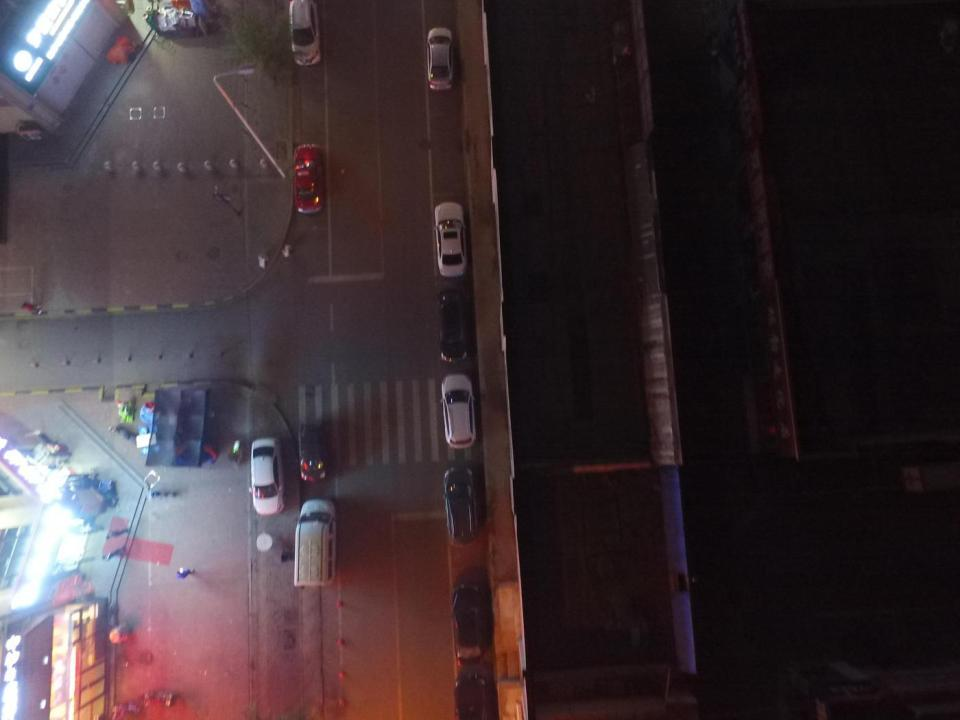car: (250, 437, 286, 516), (434, 200, 467, 277), (439, 289, 469, 362), (292, 144, 321, 214), (425, 27, 453, 90), (298, 424, 326, 481), (454, 672, 488, 718)
van: (293, 498, 336, 588), (439, 371, 476, 448), (444, 465, 477, 544), (450, 584, 482, 664), (290, 1, 321, 64)
